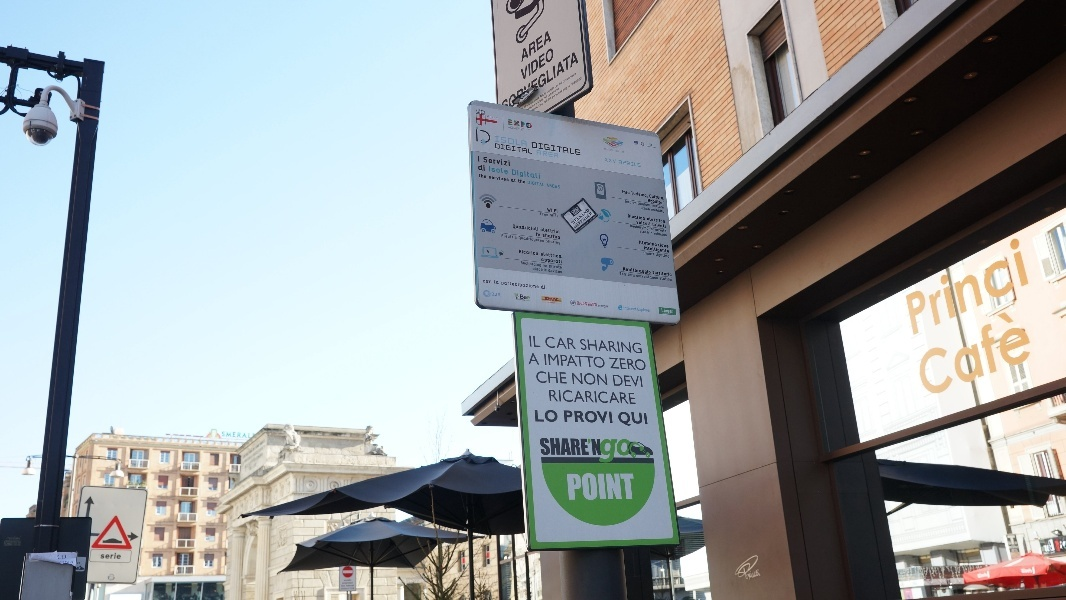text: (913, 236, 928, 338), (929, 236, 944, 338), (945, 236, 960, 338), (961, 236, 976, 338), (977, 236, 992, 338), (993, 236, 1008, 338), (1009, 236, 1024, 338), (929, 304, 944, 401), (945, 304, 960, 401), (961, 304, 976, 401), (977, 304, 992, 401), (993, 304, 1008, 401), (1009, 304, 1024, 401), (915, 304, 928, 401), (1025, 304, 1037, 401), (905, 236, 912, 338), (545, 52, 560, 90), (561, 52, 576, 90), (529, 47, 544, 81), (1025, 236, 1030, 338), (529, 31, 544, 64), (737, 553, 752, 585), (609, 438, 624, 467), (577, 473, 592, 501), (593, 473, 608, 501), (609, 473, 624, 501), (545, 47, 556, 81), (753, 553, 762, 585), (625, 473, 635, 501), (520, 47, 528, 81), (577, 211, 592, 229), (545, 438, 560, 456), (561, 438, 576, 456), (577, 438, 592, 456), (567, 473, 576, 501), (545, 353, 560, 369), (561, 353, 576, 369), (577, 353, 592, 369), (561, 389, 576, 405), (577, 389, 592, 405), (593, 389, 608, 405), (609, 389, 624, 405), (625, 412, 640, 428), (577, 208, 591, 225), (545, 31, 552, 64), (538, 52, 544, 90), (593, 339, 608, 354), (609, 339, 624, 354), (625, 339, 640, 354), (561, 336, 577, 350), (593, 353, 607, 369), (593, 373, 609, 387), (545, 142, 560, 156), (561, 142, 576, 156), (545, 336, 560, 350), (609, 357, 624, 371), (625, 357, 640, 371), (545, 371, 560, 385), (577, 373, 592, 387), (577, 410, 592, 424), (593, 410, 608, 424), (601, 438, 608, 467), (625, 438, 632, 467), (545, 409, 559, 423), (529, 335, 544, 348), (625, 375, 640, 388), (625, 389, 637, 405), (497, 136, 512, 148), (513, 136, 528, 148), (497, 143, 512, 155), (513, 143, 528, 155), (580, 339, 592, 354), (593, 438, 603, 456), (549, 389, 560, 405), (532, 142, 544, 156), (564, 410, 576, 424), (523, 31, 528, 64), (513, 169, 528, 180), (731, 553, 736, 585), (612, 375, 624, 388), (497, 156, 511, 167), (548, 87, 560, 99), (532, 353, 544, 365), (483, 156, 496, 167), (534, 409, 544, 423), (513, 120, 528, 129), (641, 240, 656, 249), (529, 169, 541, 180), (529, 236, 545, 244), (641, 412, 649, 428), (545, 150, 559, 159), (565, 72, 576, 83), (625, 160, 640, 168), (513, 224, 528, 232), (625, 267, 640, 275), (532, 102, 544, 112), (513, 281, 528, 289), (547, 86, 560, 95), (545, 233, 561, 240), (536, 371, 544, 385), (497, 166, 509, 175), (657, 240, 669, 249), (545, 252, 560, 259), (657, 270, 672, 277), (657, 246, 670, 254), (570, 208, 576, 225), (546, 239, 560, 246), (641, 357, 648, 371), (561, 371, 568, 385), (529, 181, 545, 187), (644, 246, 656, 254), (618, 412, 624, 428), (497, 175, 510, 182), (563, 86, 576, 93), (545, 228, 560, 234), (545, 258, 560, 264), (641, 274, 656, 280), (577, 301, 592, 307), (641, 267, 652, 275), (552, 89, 560, 100), (501, 281, 512, 289), (628, 214, 640, 221), (529, 224, 539, 232), (529, 281, 539, 289), (547, 208, 560, 214), (529, 262, 542, 268), (643, 251, 656, 257), (657, 253, 670, 259), (547, 96, 560, 102), (101, 553, 112, 560), (577, 52, 579, 90), (545, 297, 560, 302), (548, 184, 560, 190), (519, 236, 528, 244), (631, 191, 640, 199), (540, 438, 544, 456), (630, 224, 640, 231), (534, 96, 544, 103), (609, 410, 614, 424), (549, 264, 560, 270), (533, 267, 544, 273), (641, 202, 652, 208), (625, 272, 636, 278), (577, 76, 583, 87), (661, 308, 672, 314), (563, 79, 576, 84), (641, 191, 649, 199), (113, 553, 122, 560), (537, 150, 544, 159), (489, 166, 496, 175), (647, 217, 656, 224), (657, 217, 666, 224), (609, 142, 624, 146), (502, 234, 512, 240), (529, 250, 539, 256), (625, 200, 640, 204), (641, 207, 656, 211), (641, 220, 651, 226), (641, 230, 653, 235), (660, 277, 672, 282), (529, 100, 535, 110), (625, 306, 637, 311), (577, 142, 581, 156), (657, 194, 665, 201), (648, 198, 656, 205), (641, 224, 649, 231), (529, 103, 536, 111), (572, 373, 576, 387), (549, 269, 560, 274), (657, 232, 668, 237), (571, 76, 576, 87), (519, 250, 528, 256), (573, 211, 576, 229), (483, 280, 496, 284), (518, 179, 528, 184), (657, 223, 667, 228), (657, 228, 667, 233), (598, 304, 608, 309), (489, 175, 496, 182), (649, 194, 656, 201), (657, 198, 664, 205), (537, 98, 544, 105), (529, 143, 533, 155), (609, 158, 617, 164), (657, 208, 665, 214), (520, 294, 528, 300), (487, 115, 496, 120), (539, 91, 544, 100), (521, 262, 528, 268), (657, 204, 664, 210), (518, 128, 528, 132), (619, 160, 624, 168), (550, 214, 560, 218), (536, 232, 544, 237), (524, 100, 528, 110), (641, 308, 651, 312), (641, 375, 644, 388), (535, 102, 544, 106), (618, 305, 624, 311), (57, 555, 64, 560), (481, 165, 486, 172), (641, 214, 646, 221), (568, 85, 576, 89), (481, 174, 487, 179), (513, 234, 518, 240), (651, 208, 656, 214), (619, 272, 624, 278), (555, 84, 560, 90), (641, 339, 643, 354), (649, 227, 656, 231), (652, 270, 656, 277), (529, 120, 532, 129), (625, 190, 630, 195), (636, 220, 640, 226), (636, 274, 640, 280), (593, 301, 597, 307), (561, 89, 563, 100), (541, 252, 544, 259), (633, 202, 640, 205), (513, 178, 517, 183), (652, 223, 656, 228), (492, 292, 496, 297), (497, 292, 501, 297), (605, 158, 608, 164), (541, 228, 544, 234), (541, 258, 544, 264), (545, 267, 548, 273), (593, 211, 594, 229), (653, 204, 656, 210), (545, 91, 547, 100), (545, 95, 548, 101), (545, 99, 548, 105), (540, 213, 544, 217), (545, 213, 549, 217), (513, 127, 518, 130), (653, 232, 656, 237), (497, 280, 500, 285), (541, 285, 544, 290), (478, 156, 480, 163), (542, 233, 544, 240), (561, 252, 563, 259), (495, 136, 496, 148), (495, 143, 496, 155), (561, 258, 563, 264), (545, 264, 548, 268), (561, 264, 563, 270), (638, 202, 640, 208), (657, 274, 659, 280), (561, 81, 563, 87), (529, 294, 531, 300), (65, 555, 67, 560), (478, 174, 480, 179), (561, 269, 563, 274), (622, 190, 624, 195), (494, 280, 496, 285), (545, 285, 547, 290), (509, 127, 512, 130), (639, 240, 640, 249), (641, 160, 642, 168), (623, 267, 624, 275), (638, 308, 640, 312), (479, 165, 480, 172), (655, 253, 656, 259), (559, 81, 560, 87), (673, 308, 674, 314), (497, 115, 498, 120), (511, 178, 512, 183), (655, 228, 656, 233), (543, 264, 544, 268)
